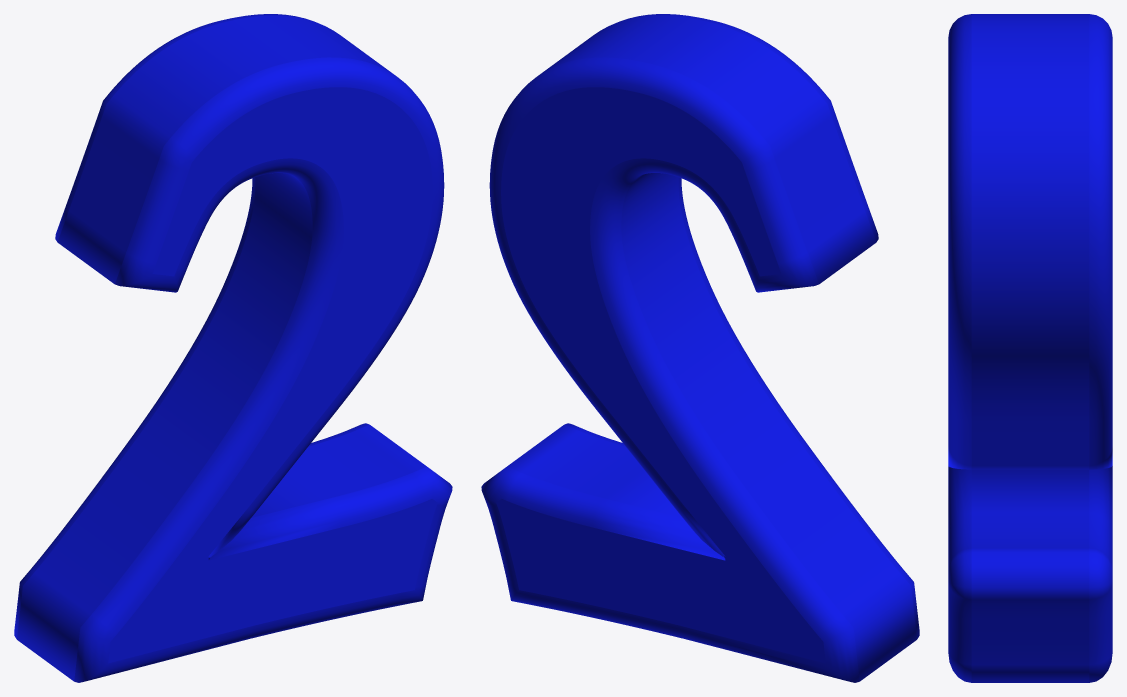
File: number_2.fbx
3 renders of one model, left to right at view 1: azimuth 30°, elevation 25°; view 2: azimuth 150°, elevation 25°; view 3: azimuth 270°, elevation 25°, orthographic. The views are drawn at different scales.
Visible parts, largest first — view 1: Text; view 2: Text; view 3: Text.
Boxes of the visible parts, bbox=[...] form: Text: bbox=[14, 14, 452, 682]; Text: bbox=[481, 14, 919, 682]; Text: bbox=[948, 14, 1112, 682].
Size of the model in its own units: 188 by 272 by 69.41.
